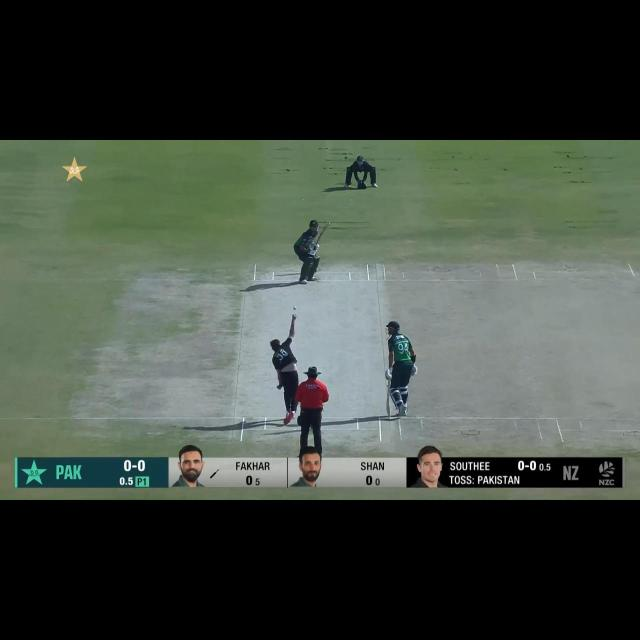bat: (315, 222, 329, 244), (385, 385, 390, 417)
toe: (323, 222, 332, 228), (386, 409, 392, 417)
